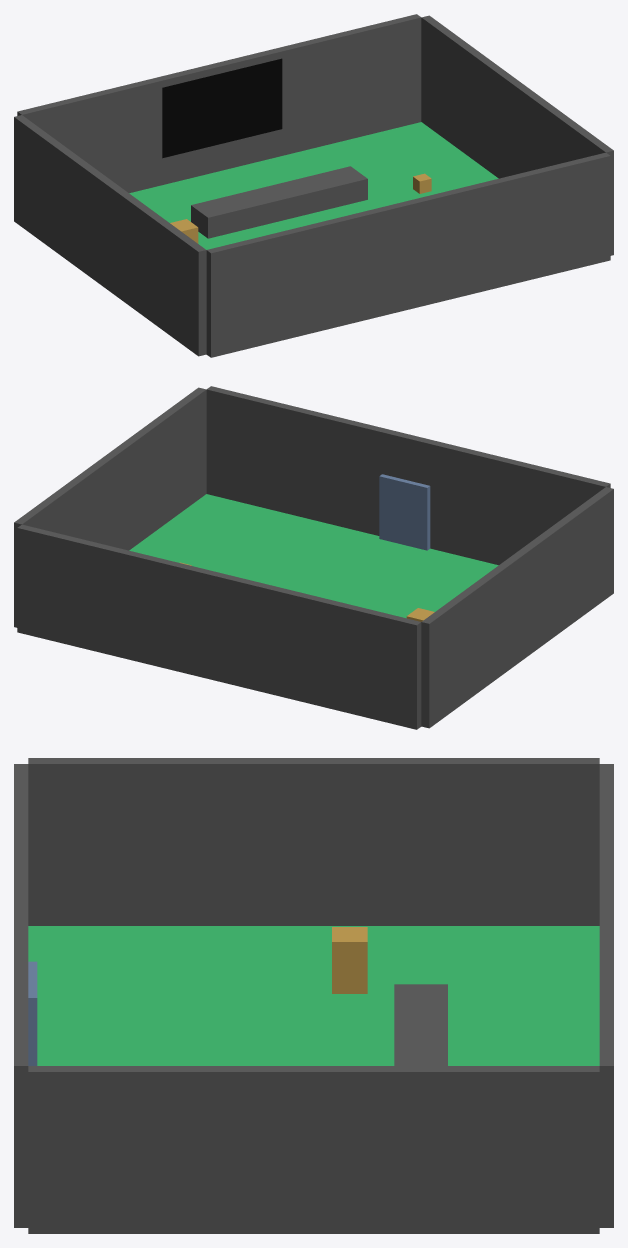
The model's file is factory_interior.glb.
The picture shows the model from 3 angles, top to bottom: view 1: azimuth 30°, elevation 25°; view 2: azimuth 150°, elevation 25°; view 3: azimuth 270°, elevation 25°; orthographic projection. The views are drawn at different scales.
Visible parts, largest first — view 1: blockout_wall_s, blockout_wall_n, blockout_wall_w, blockout_wall_e, nav_walkable, screen_factory_wall, blockout_line; view 2: blockout_wall_n, blockout_wall_s, nav_walkable, blockout_wall_w, blockout_wall_e, door_exit_plaza; view 3: blockout_wall_e, blockout_wall_w, nav_walkable, blockout_wall_n, blockout_wall_s, blockout_line, hotspot_line_info, door_exit_plaza.
Boxes of the visible parts, x1,y1,x2,y2 form: blockout_wall_s: (206,152,610,357); blockout_wall_n: (17,14,421,193); blockout_wall_w: (14,115,206,356); blockout_wall_e: (421,15,613,255); nav_walkable: (129,122,498,249); screen_factory_wall: (162,58,282,158); blockout_line: (191,166,367,238); blockout_wall_n: (17,524,421,729); blockout_wall_s: (206,386,610,565); nav_walkable: (129,494,498,618); blockout_wall_w: (421,487,613,728); blockout_wall_e: (14,387,206,627); door_exit_plaza: (379,474,430,550); blockout_wall_e: (28,1066,599,1233); blockout_wall_w: (28,758,599,925); nav_walkable: (28,926,599,1065); blockout_wall_n: (599,764,613,1227); blockout_wall_s: (14,764,28,1227); blockout_line: (394,984,447,1065); hotspot_line_info: (332,927,367,993); door_exit_plaza: (28,961,37,1065).
Size of what is drawn, in the model's own units: 20.8 by 5.02 by 16.8.
